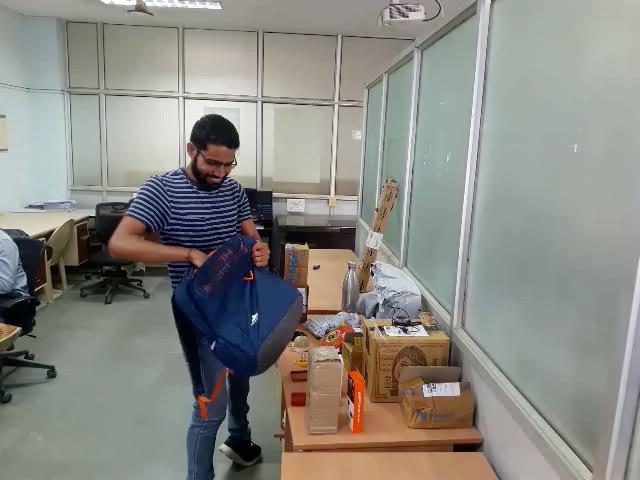shoplifting: (107, 218, 339, 376)
